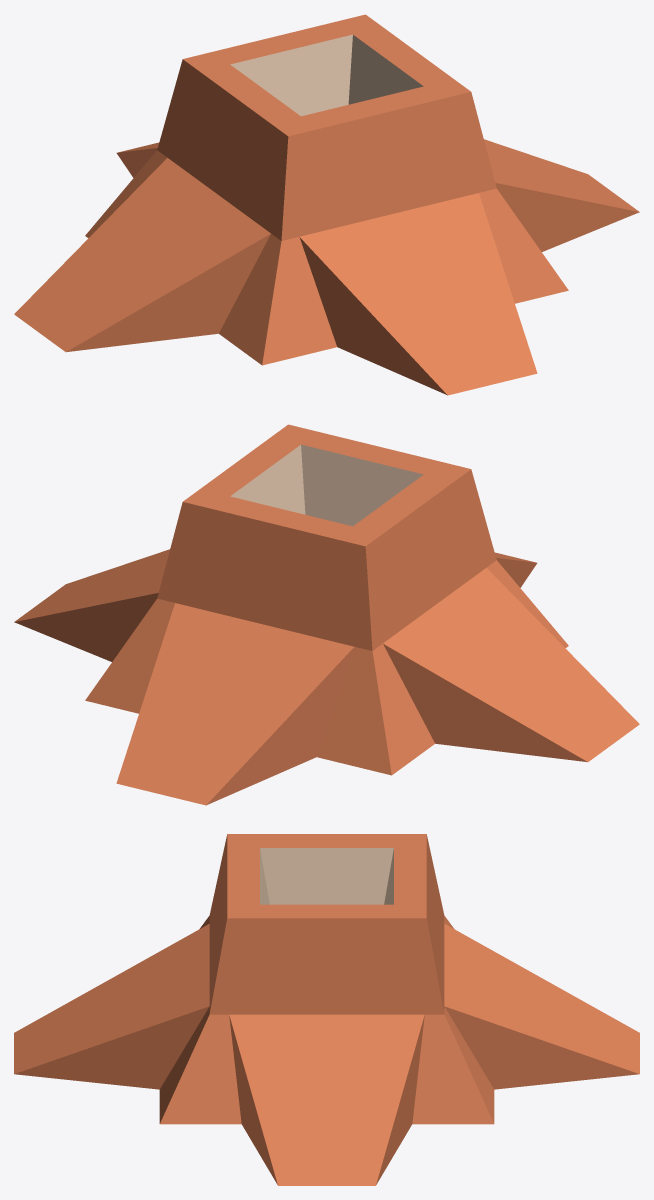
Rendered from stump-square-detailed-wide.glb.
The picture shows the model from 3 angles, top to bottom: view 1: azimuth 30°, elevation 25°; view 2: azimuth 150°, elevation 25°; view 3: azimuth 270°, elevation 25°; orthographic projection. The views are drawn at different scales.
Visible parts, largest first — view 1: stump_squareDetailedWide; view 2: stump_squareDetailedWide; view 3: stump_squareDetailedWide.
Part boxes in pixels (x1=…): stump_squareDetailedWide: x1=14, y1=14, x2=639, y2=395; stump_squareDetailedWide: x1=14, y1=424, x2=639, y2=805; stump_squareDetailedWide: x1=14, y1=834, x2=639, y2=1185.
Bounding box in the file's own units: 0.64 × 0.2 × 0.64.
